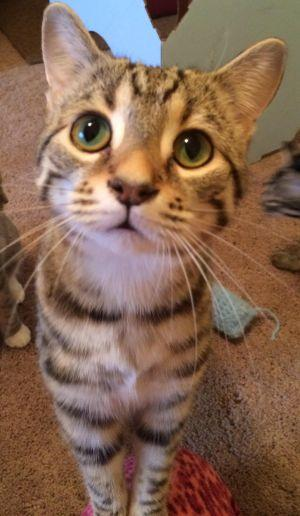bengal: (19, 1, 285, 269)
